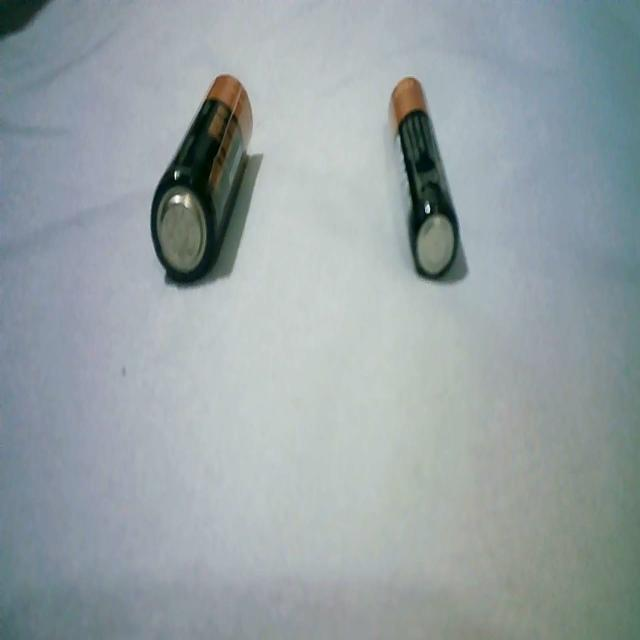AA: (147, 68, 256, 284)
AAA: (384, 70, 467, 288)
